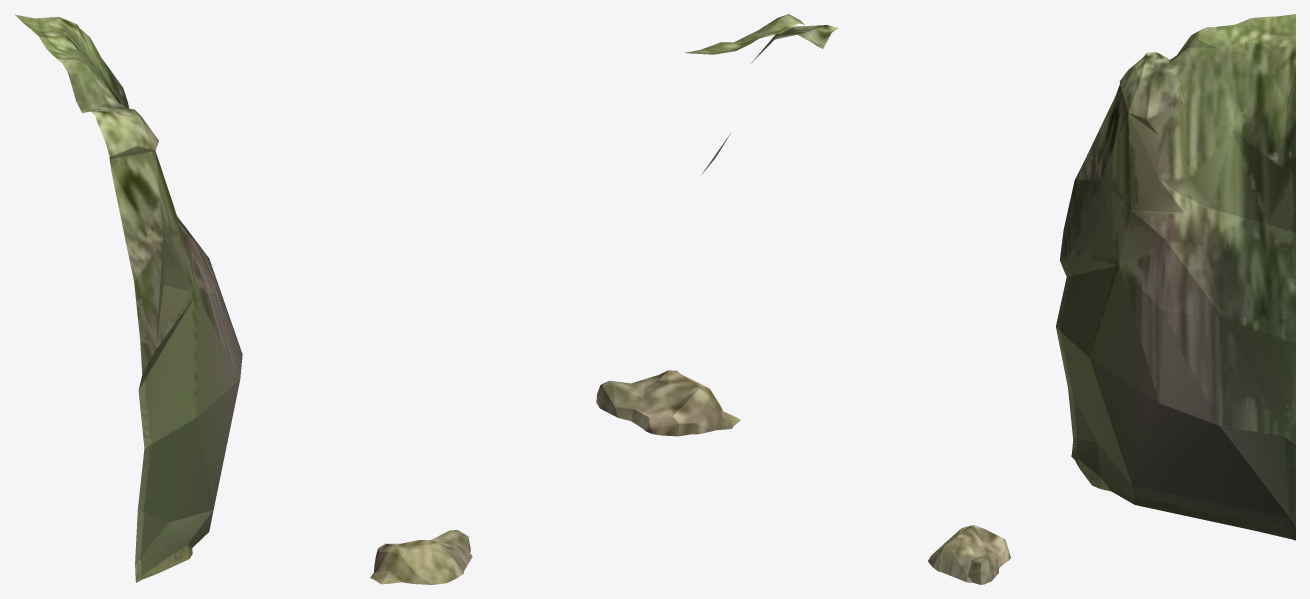
3 renders of one model, left to right at view 1: azimuth 30°, elevation 25°; view 2: azimuth 150°, elevation 25°; view 3: azimuth 270°, elevation 25°, orthographic. The views are drawn at different scales.
Bounding box in the file's own units: 3.06 × 4.92 × 3.71.
Materials: 1 (1 with a texture image).
